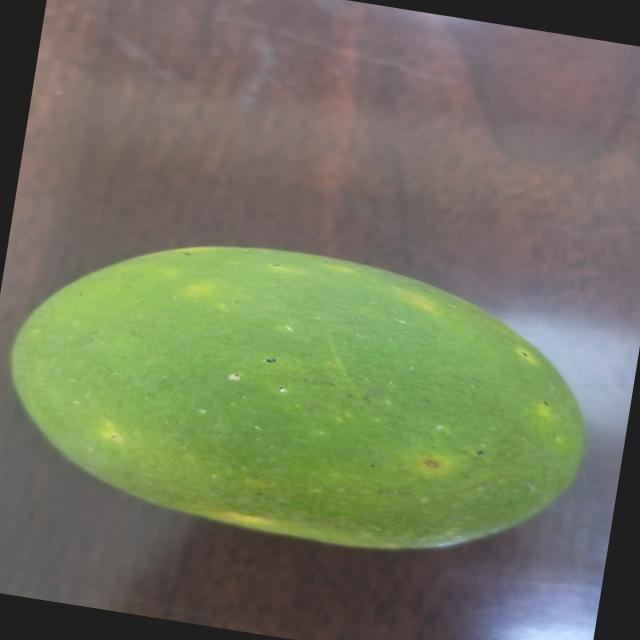agrume: (6, 211, 610, 580)
